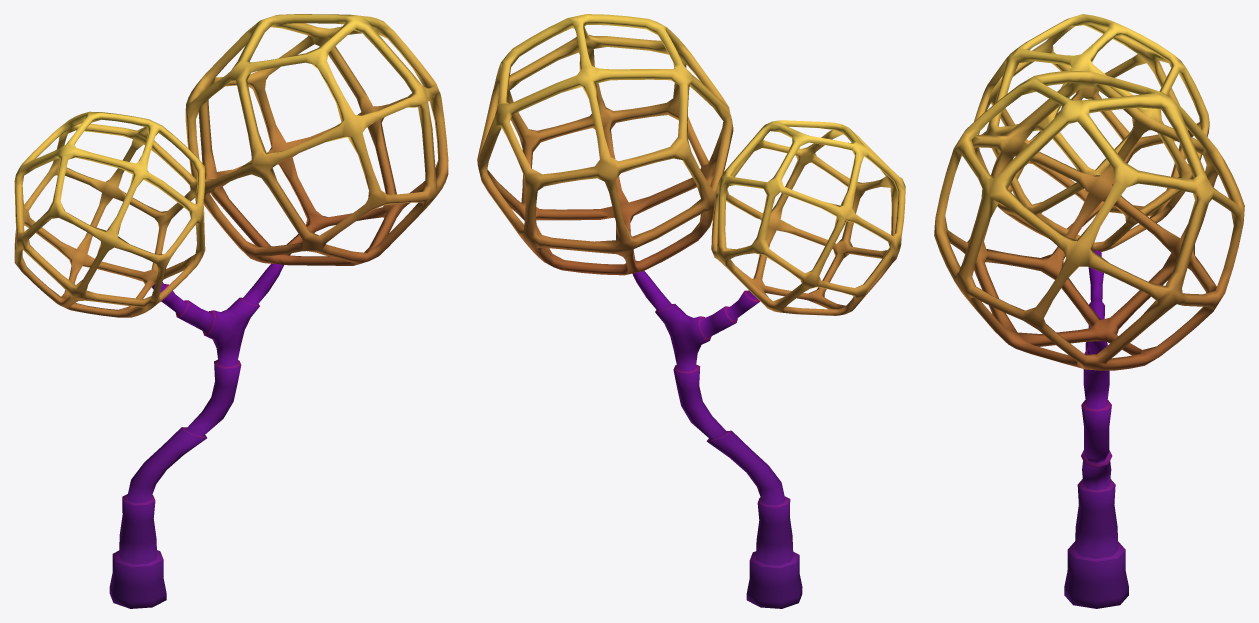
The model's file is anp_tree_8.fbx.
3 renders of one model, left to right at view 1: azimuth 30°, elevation 25°; view 2: azimuth 150°, elevation 25°; view 3: azimuth 270°, elevation 25°, orthographic. The views are drawn at different scales.
Parts seen in each view (by area): view 1: t8; view 2: t8; view 3: t8.
Part boxes in pixels (x1,y1,x2,y2): t8: [14, 14, 448, 608]; t8: [477, 14, 905, 608]; t8: [934, 14, 1244, 608].
Bounding box in the file's own units: 310 × 384 × 177.
